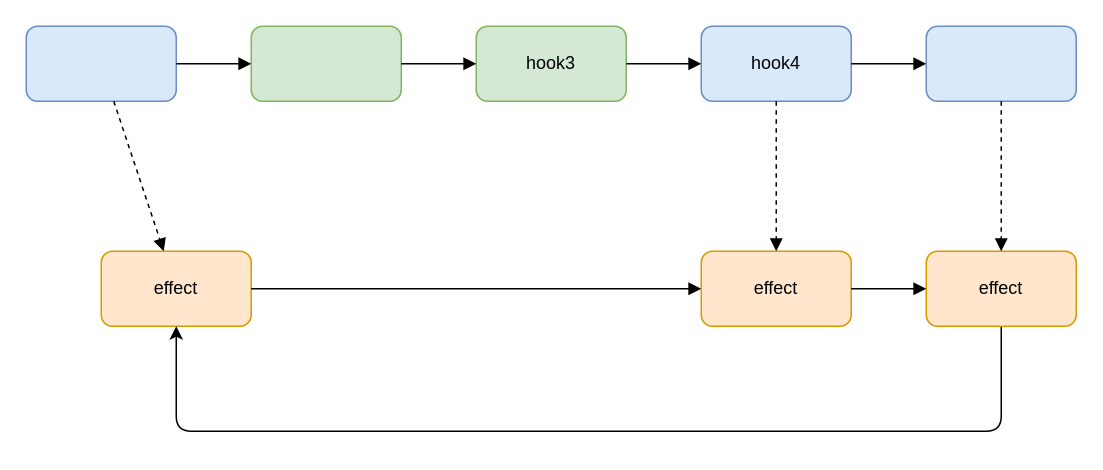
This 1103x470 diagram has some shape labels left out. The shapes that lost their labels are listed below. From the top down, each one's centre as x and y in pixels, then its label:
(x=100, y=63): hook1
(x=325, y=63): hook2
(x=1000, y=63): hook5
